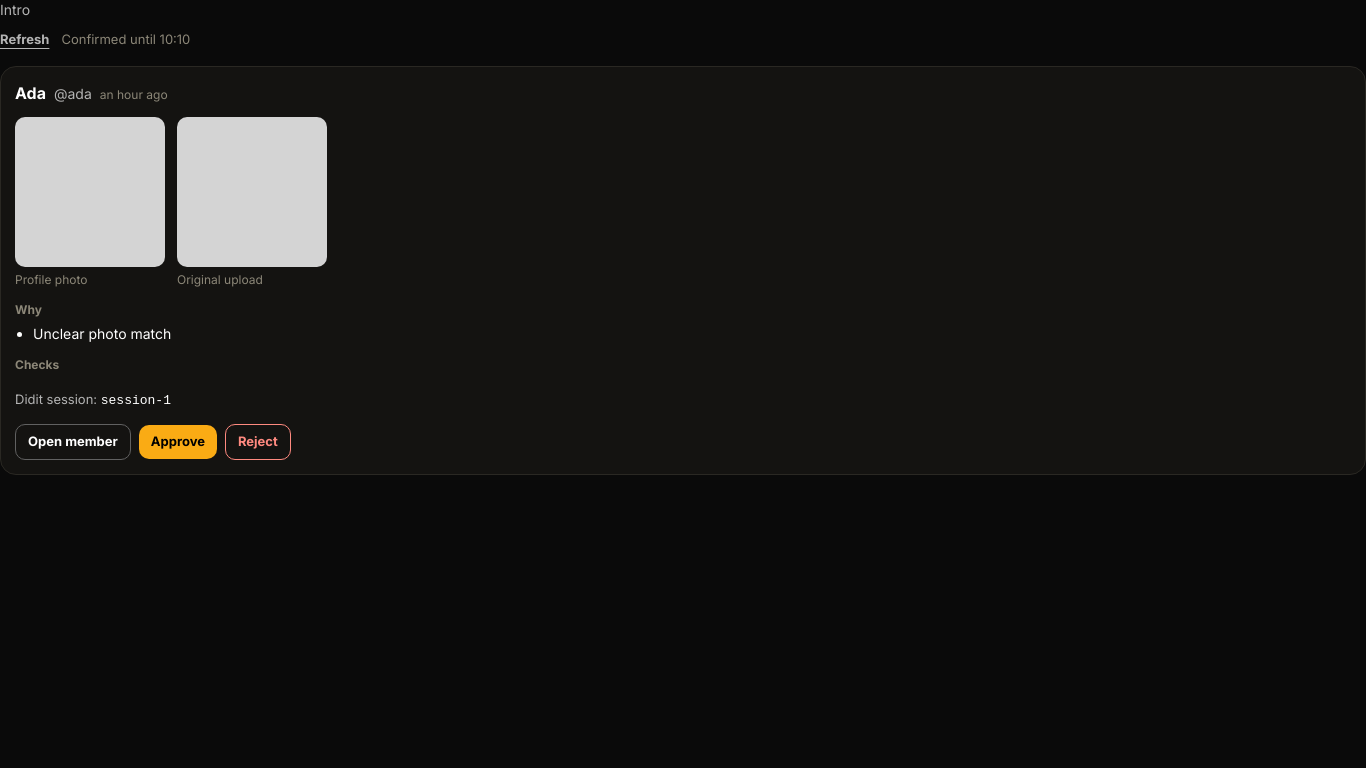
VerificationReviewView › enlarges a photo in the page instead of opening its signed link in a tab
Click the button named "Profile photo: Ada" at (90, 202), box [15,116,165,288]
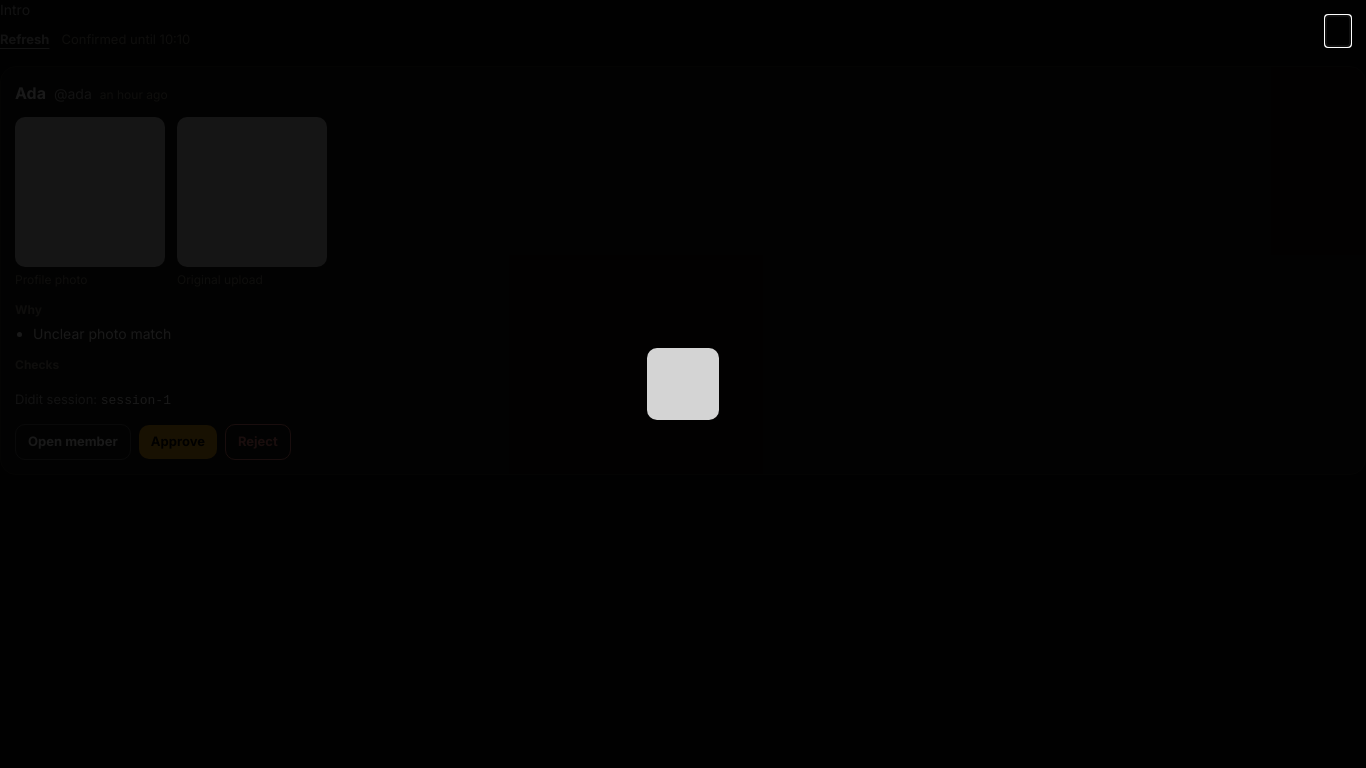
Press Escape
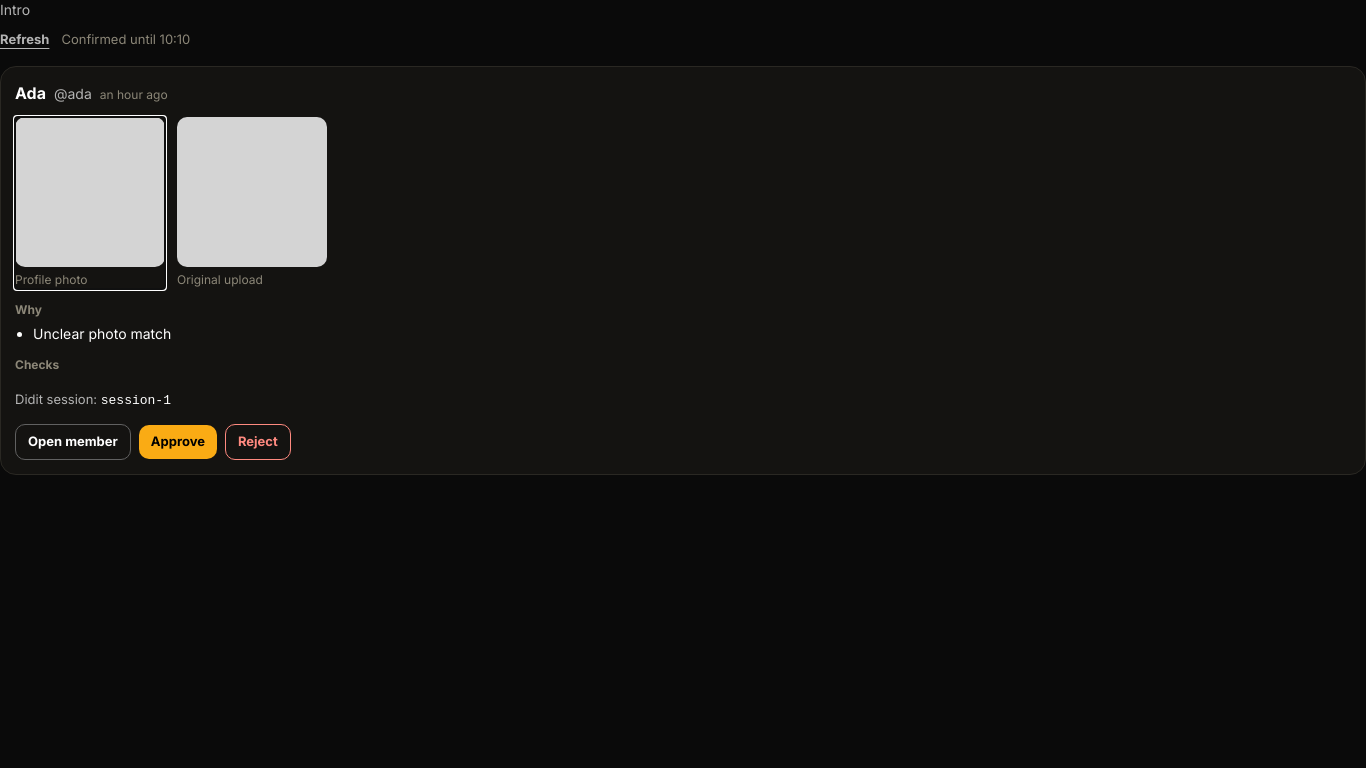
Now the dialog is gone
